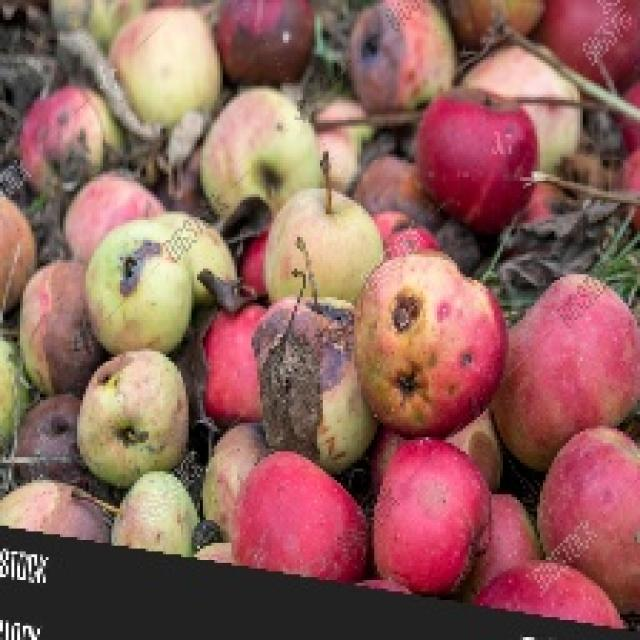rotten_apple: (359, 257, 505, 436), (256, 298, 366, 462), (85, 351, 186, 479), (353, 4, 454, 112), (21, 265, 95, 382), (26, 89, 103, 188), (217, 0, 312, 80), (18, 394, 82, 478)
